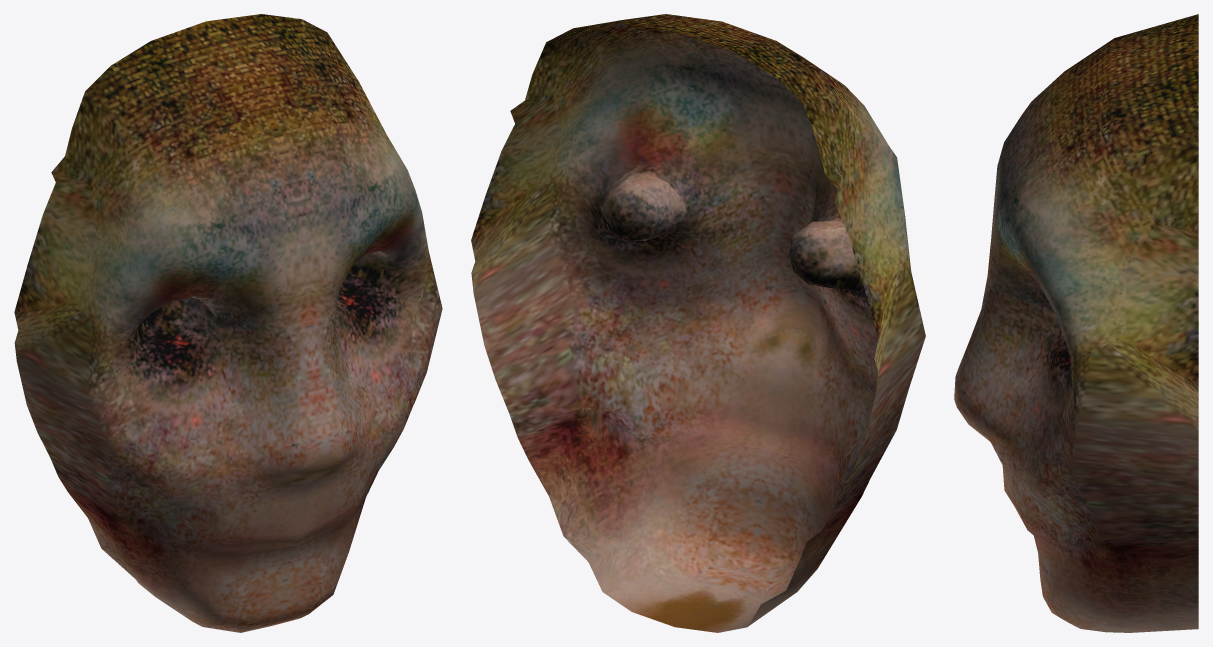
File: HandDemonFace.glb
3 views of the same model, side by side, from view 1: azimuth 30°, elevation 25°; view 2: azimuth 150°, elevation 25°; view 3: azimuth 270°, elevation 25° (orthographic). The views are drawn at different scales.
Visible parts, largest first — view 1: Retopo_Roundcube_001; view 2: Retopo_Roundcube_001; view 3: Retopo_Roundcube_001.
Boxes of the visible parts, x1,y1,x2,y2 form: Retopo_Roundcube_001: (14,14,442,632); Retopo_Roundcube_001: (471,14,925,632); Retopo_Roundcube_001: (954,14,1198,632).
Bounding box in the file's own units: 3.37 × 4.78 × 1.83.
Materials: 1 (1 with a texture image).
